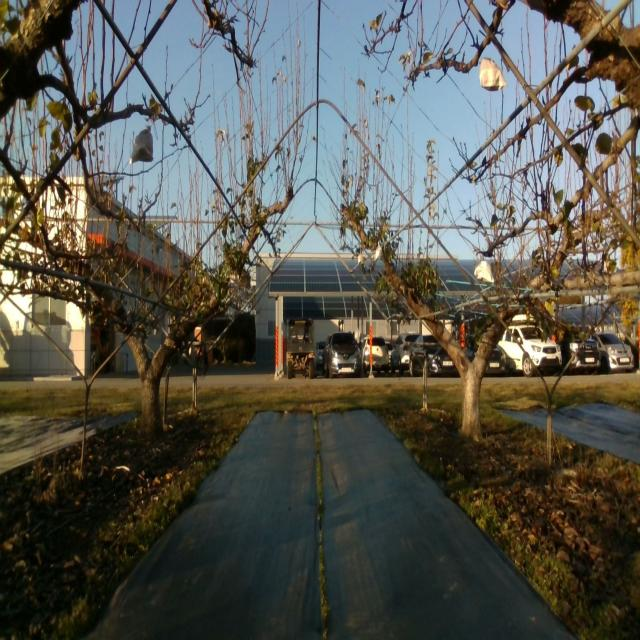pearbags: (129, 124, 154, 164), (480, 56, 506, 90), (474, 261, 494, 283)
